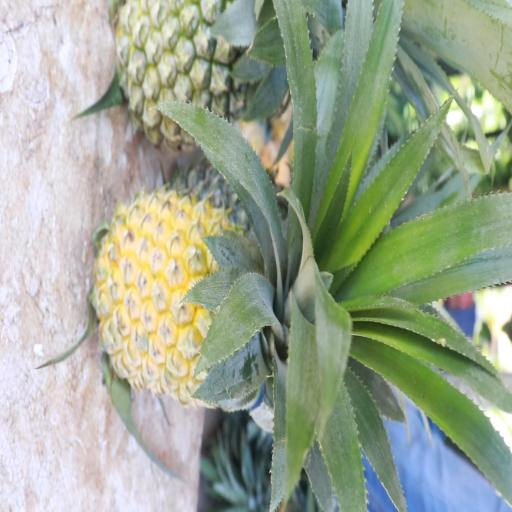------------------------------: (114, 0, 334, 145)
Pineapple - v8 v1: (101, 193, 353, 404)
